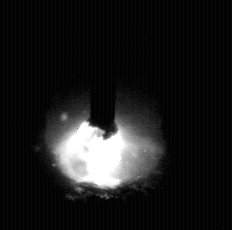arame: (91, 0, 117, 138)
poca: (44, 0, 163, 230)
